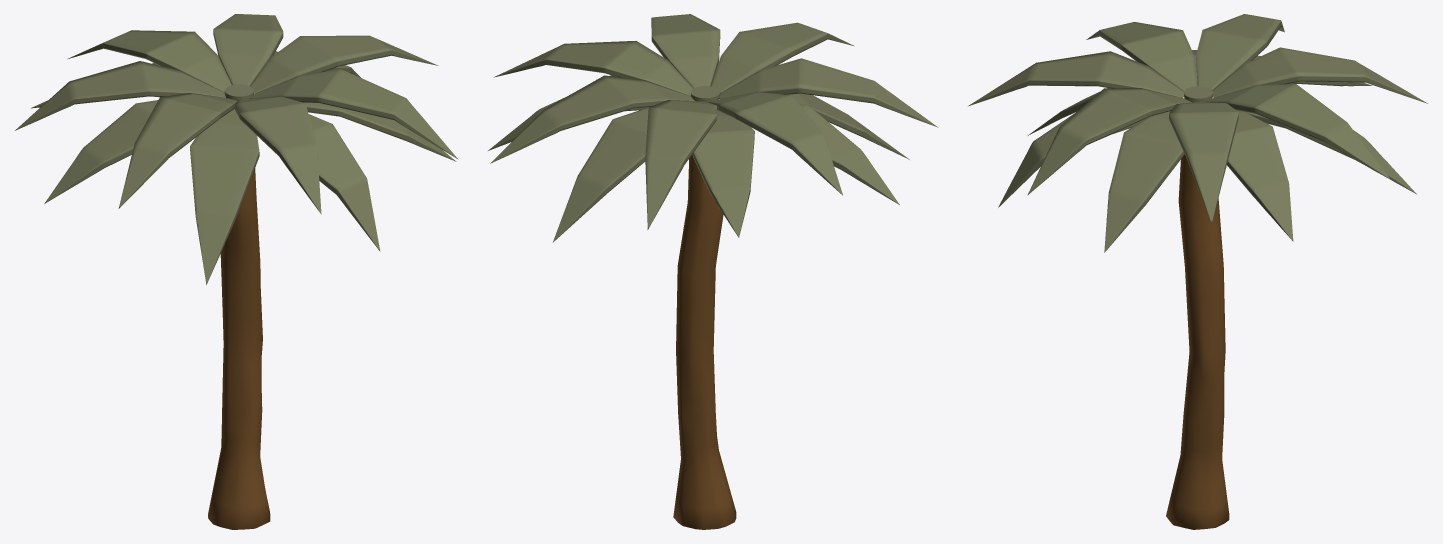
The picture shows the model from 3 angles, left to right: view 1: azimuth 30°, elevation 25°; view 2: azimuth 150°, elevation 25°; view 3: azimuth 270°, elevation 25°; orthographic projection.
Visible parts, largest first — view 1: Lofted Patch (×12); view 2: Lofted Patch (×12); view 3: Lofted Patch (×12).
Part boxes in pixels (bbox=[...]): Lofted Patch (×12): bbox=[15, 14, 458, 529]; Lofted Patch (×12): bbox=[490, 14, 938, 529]; Lofted Patch (×12): bbox=[968, 14, 1427, 529].
Bounding box in the file's own units: 2.25 × 2.38 × 2.24.
